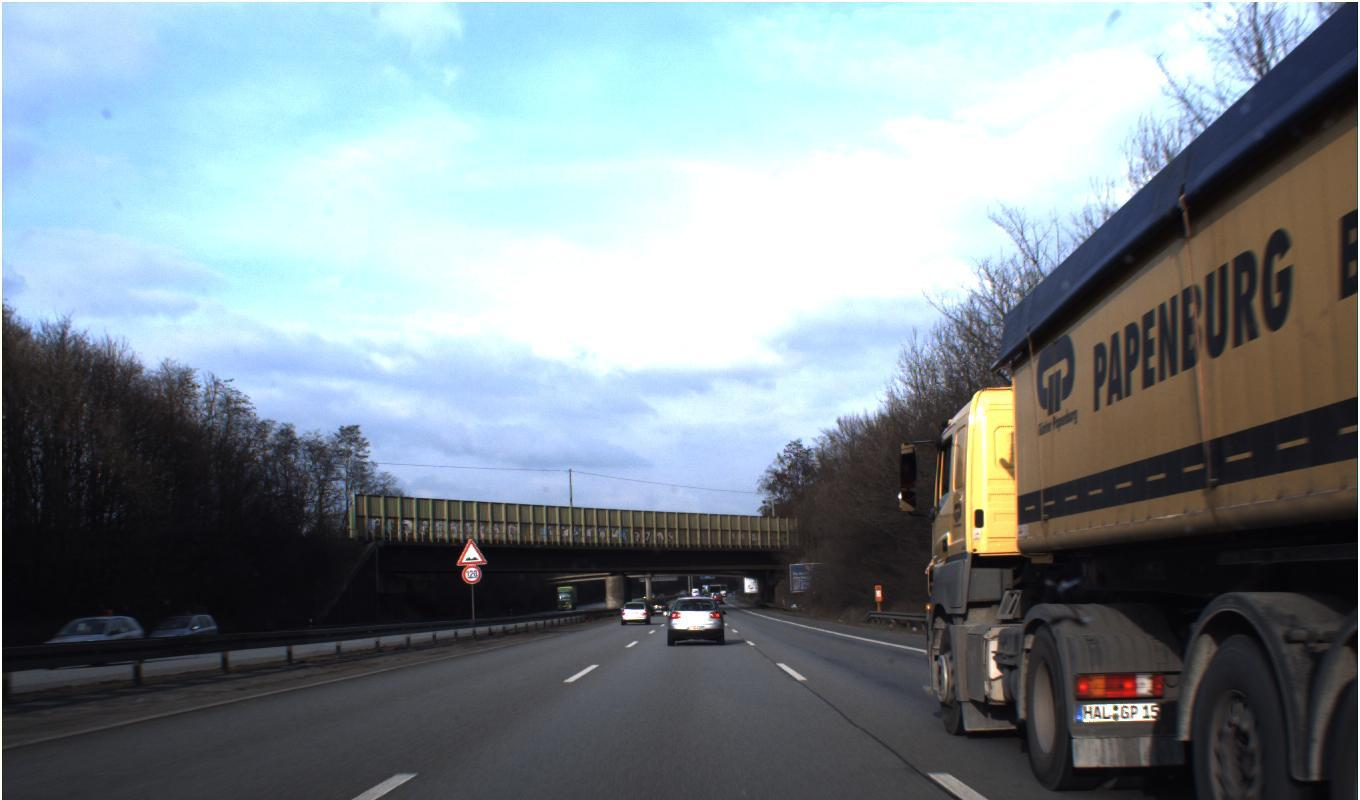22: (455, 537, 488, 566)
speed limit 120 (prohibitory): (460, 563, 482, 585)
